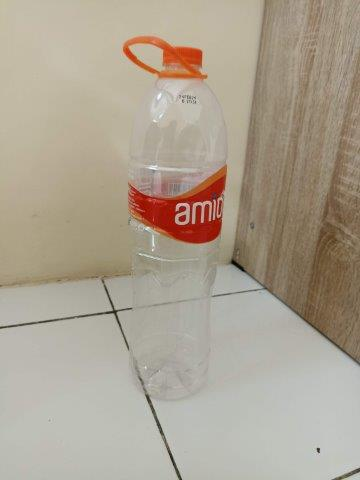botolplastik: (129, 46, 229, 394)
